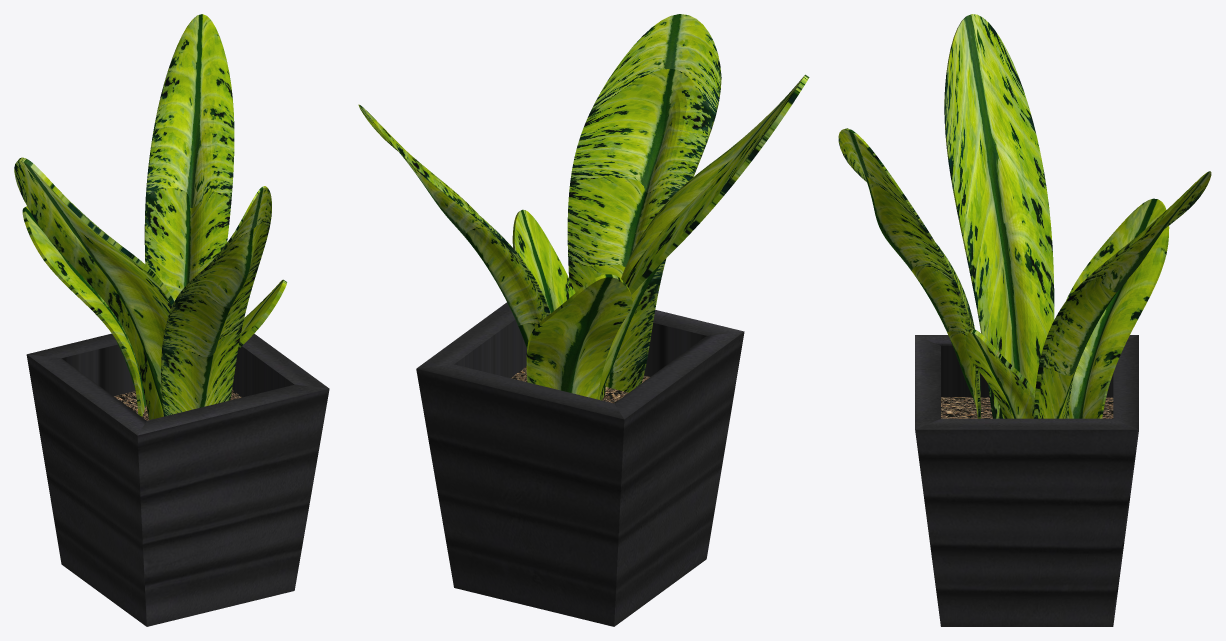
File: planta-c.fbx
The picture shows the model from 3 angles, left to right: view 1: azimuth 30°, elevation 25°; view 2: azimuth 150°, elevation 25°; view 3: azimuth 270°, elevation 25°; orthographic projection. The views are drawn at different scales.
Parts seen in each view (by area): view 1: Plano.003; view 2: Plano.003; view 3: Plano.003.
Boxes of the visible parts, left/top/right/bottom form: Plano.003: left=14, top=14, right=329, bottom=626; Plano.003: left=358, top=14, right=809, bottom=626; Plano.003: left=838, top=14, right=1211, bottom=626.
Bounding box in the file's own units: 124 × 187 × 130.
7 materials, 7 textured.
